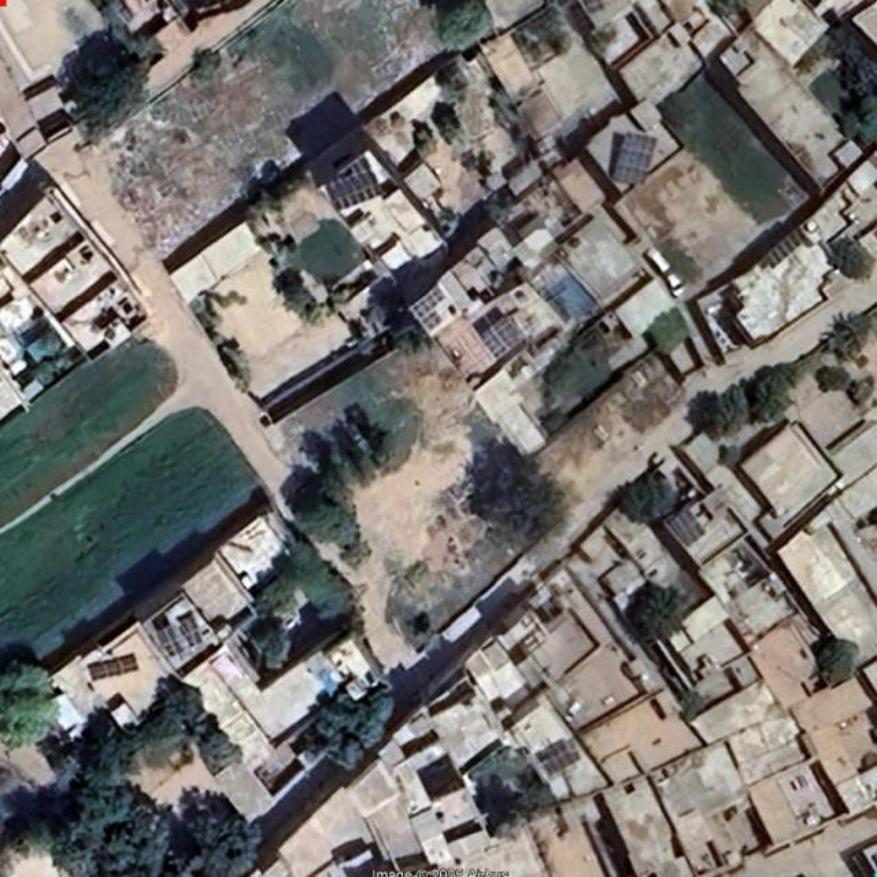Solarpanel: (612, 130, 658, 188), (324, 166, 381, 211), (482, 316, 521, 358), (88, 657, 138, 680)
